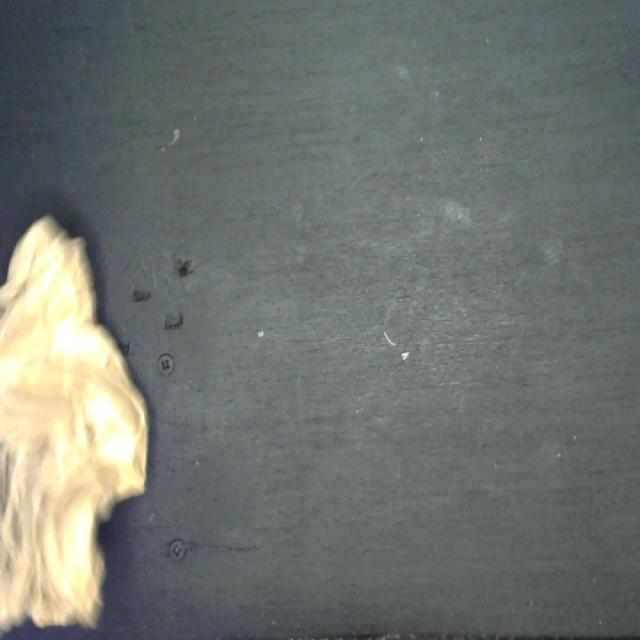biodegradable: (0, 210, 154, 640)
